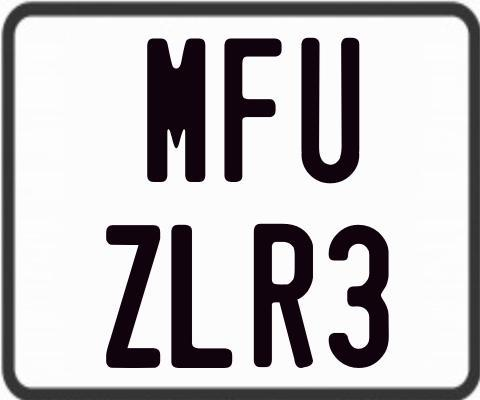3: (328, 224, 392, 371)
F: (221, 37, 280, 183)
L: (168, 224, 231, 367)
M: (147, 38, 205, 185)
R: (251, 223, 313, 373)
U: (299, 38, 360, 186)
Z: (104, 224, 162, 373)
